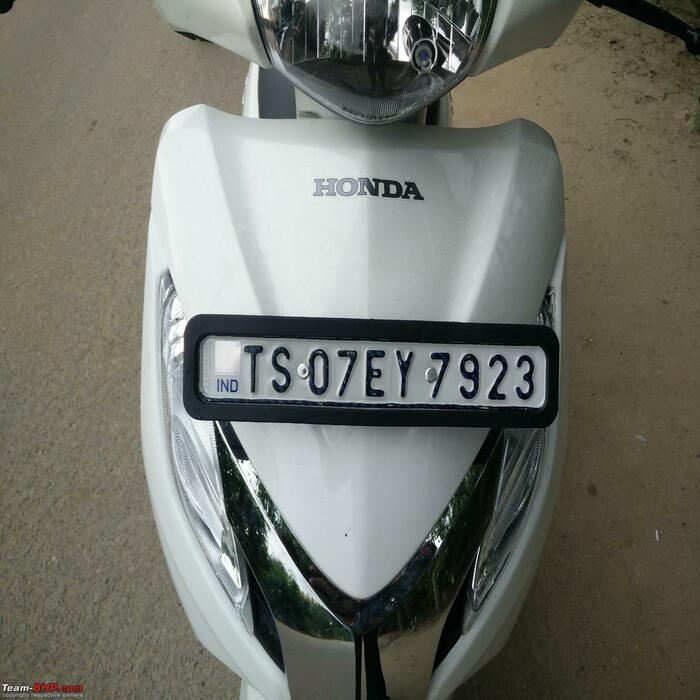n: (181, 313, 561, 432)
